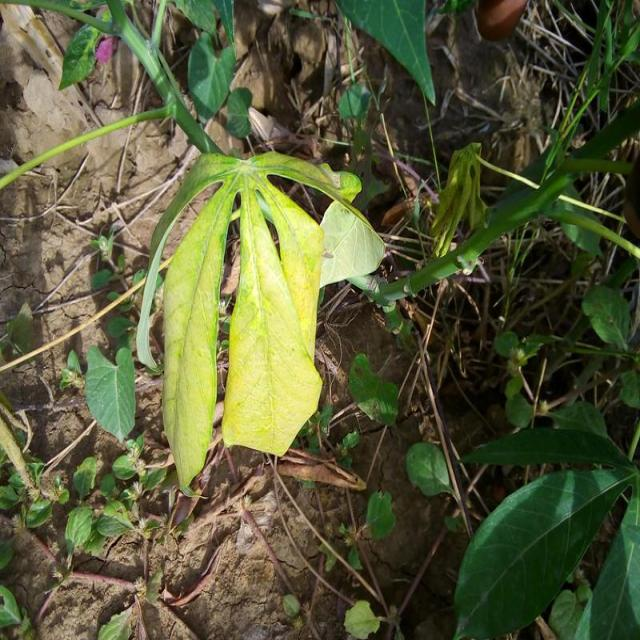cassava leaf: (138, 146, 380, 495), (452, 464, 638, 638)
